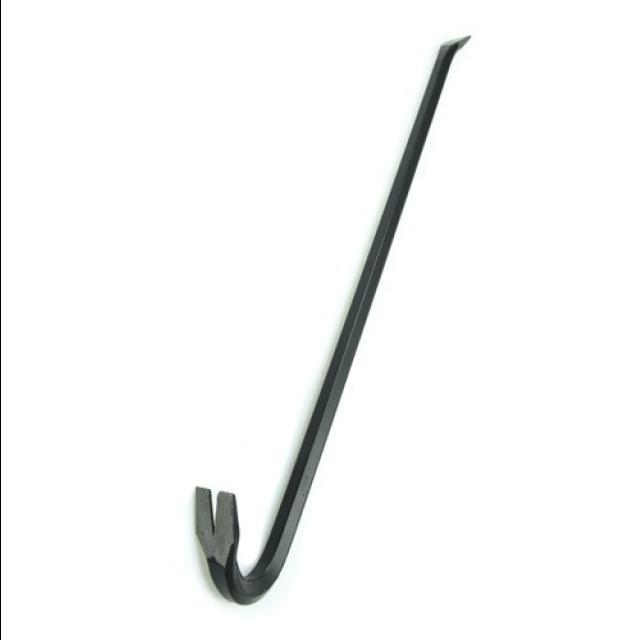Linggis: (192, 33, 471, 609)
